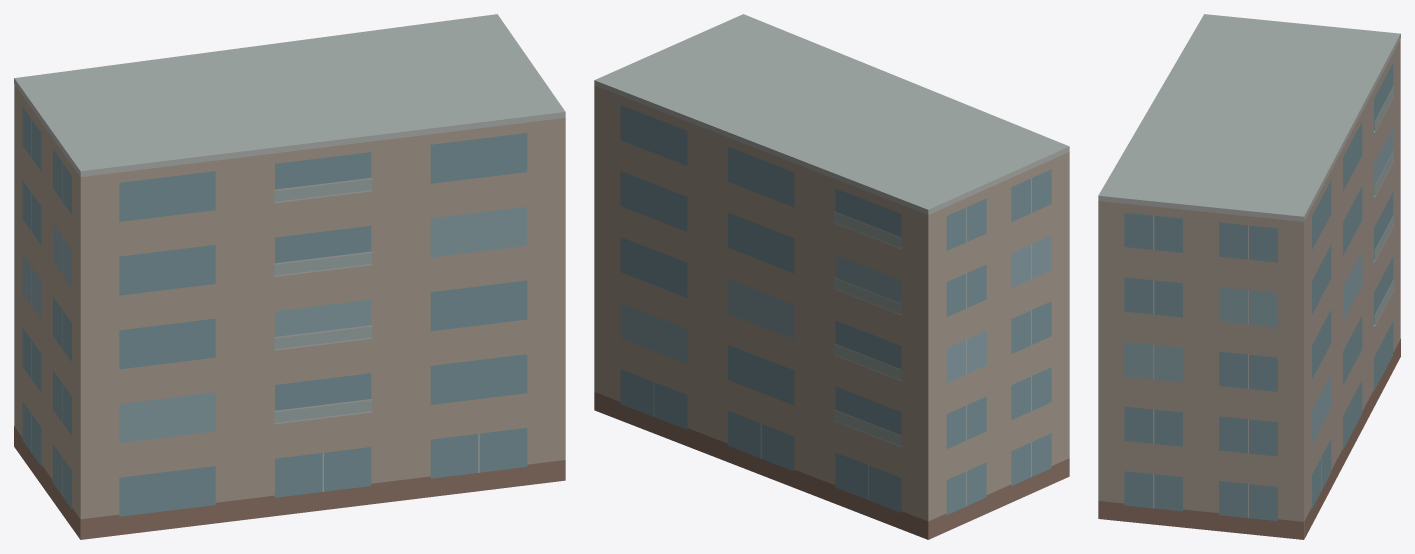
File: survey-upis-32740800.glb
3 renders of one model, left to right at view 1: azimuth 30°, elevation 25°; view 2: azimuth 150°, elevation 25°; view 3: azimuth 270°, elevation 25°, orthographic. The views are drawn at different scales.
Visible parts, largest first — view 1: survey-upis-32740800.tmp; view 2: survey-upis-32740800.tmp; view 3: survey-upis-32740800.tmp.
Boxes of the visible parts, <box> form: survey-upis-32740800.tmp: <box>14,14,565,539</box>; survey-upis-32740800.tmp: <box>594,14,1069,539</box>; survey-upis-32740800.tmp: <box>1098,14,1400,539</box>.
Size of the model in its own units: 20.53 by 15.25 by 12.95.
